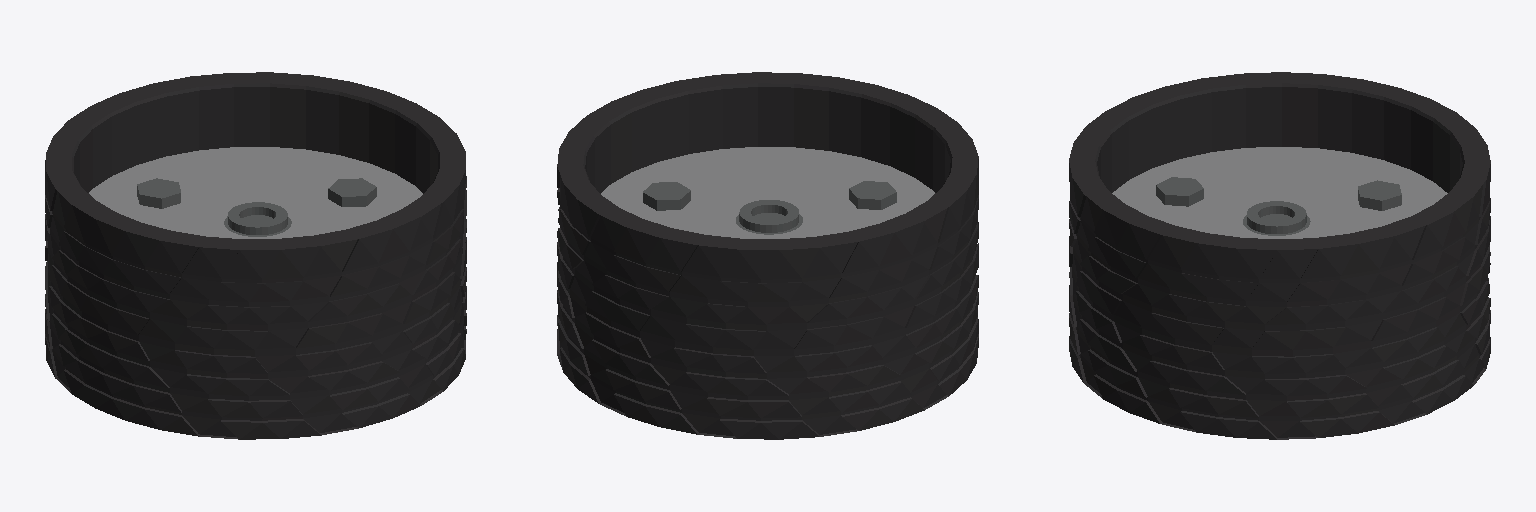
Rendered from roue.obj.
The picture shows the model from 3 angles: view 1: azimuth 30°, elevation 25°; view 2: azimuth 150°, elevation 25°; view 3: azimuth 270°, elevation 25°; orthographic projection.
Parts seen in each view (by area): view 1: Circle.003_Circle.001; view 2: Circle.003_Circle.001; view 3: Circle.003_Circle.001.
Part boxes in pixels (left/top/right/bottom): Circle.003_Circle.001: left=45, top=72, right=466, bottom=439; Circle.003_Circle.001: left=557, top=72, right=978, bottom=439; Circle.003_Circle.001: left=1069, top=72, right=1490, bottom=439.
Bounding box in the file's own units: 1.61 × 0.7967 × 1.61.